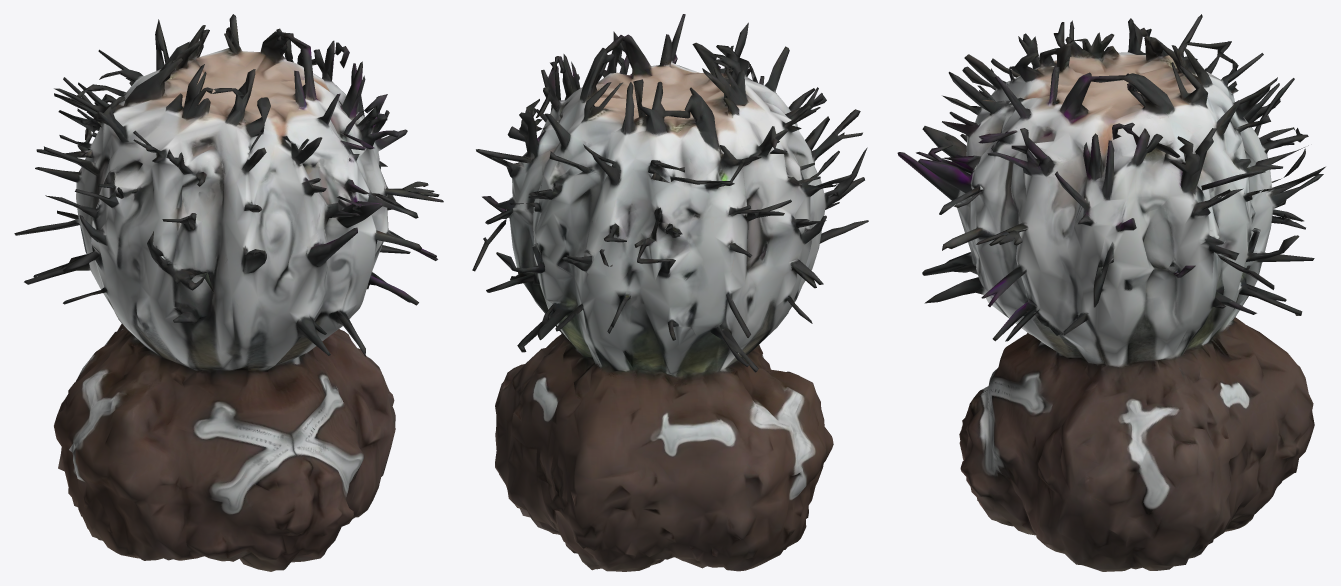
File: Cactaceae.glb
3 renders of one model, left to right at view 1: azimuth 30°, elevation 25°; view 2: azimuth 150°, elevation 25°; view 3: azimuth 270°, elevation 25°, orthographic. The views are drawn at different scales.
Size of the model in its own units: 1.43 by 2 by 1.62.
1 material, 1 textured.
